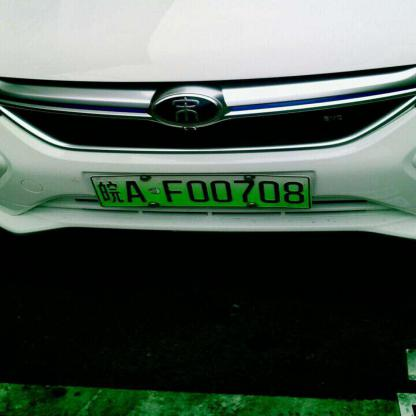lp: (88, 176, 311, 206)
